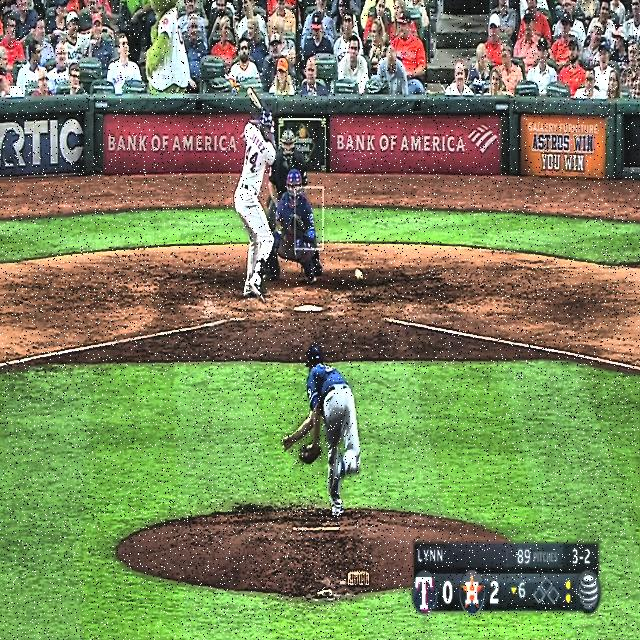baseball: (354, 267, 364, 283)
